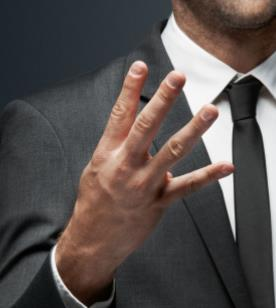right: (70, 53, 242, 262)
